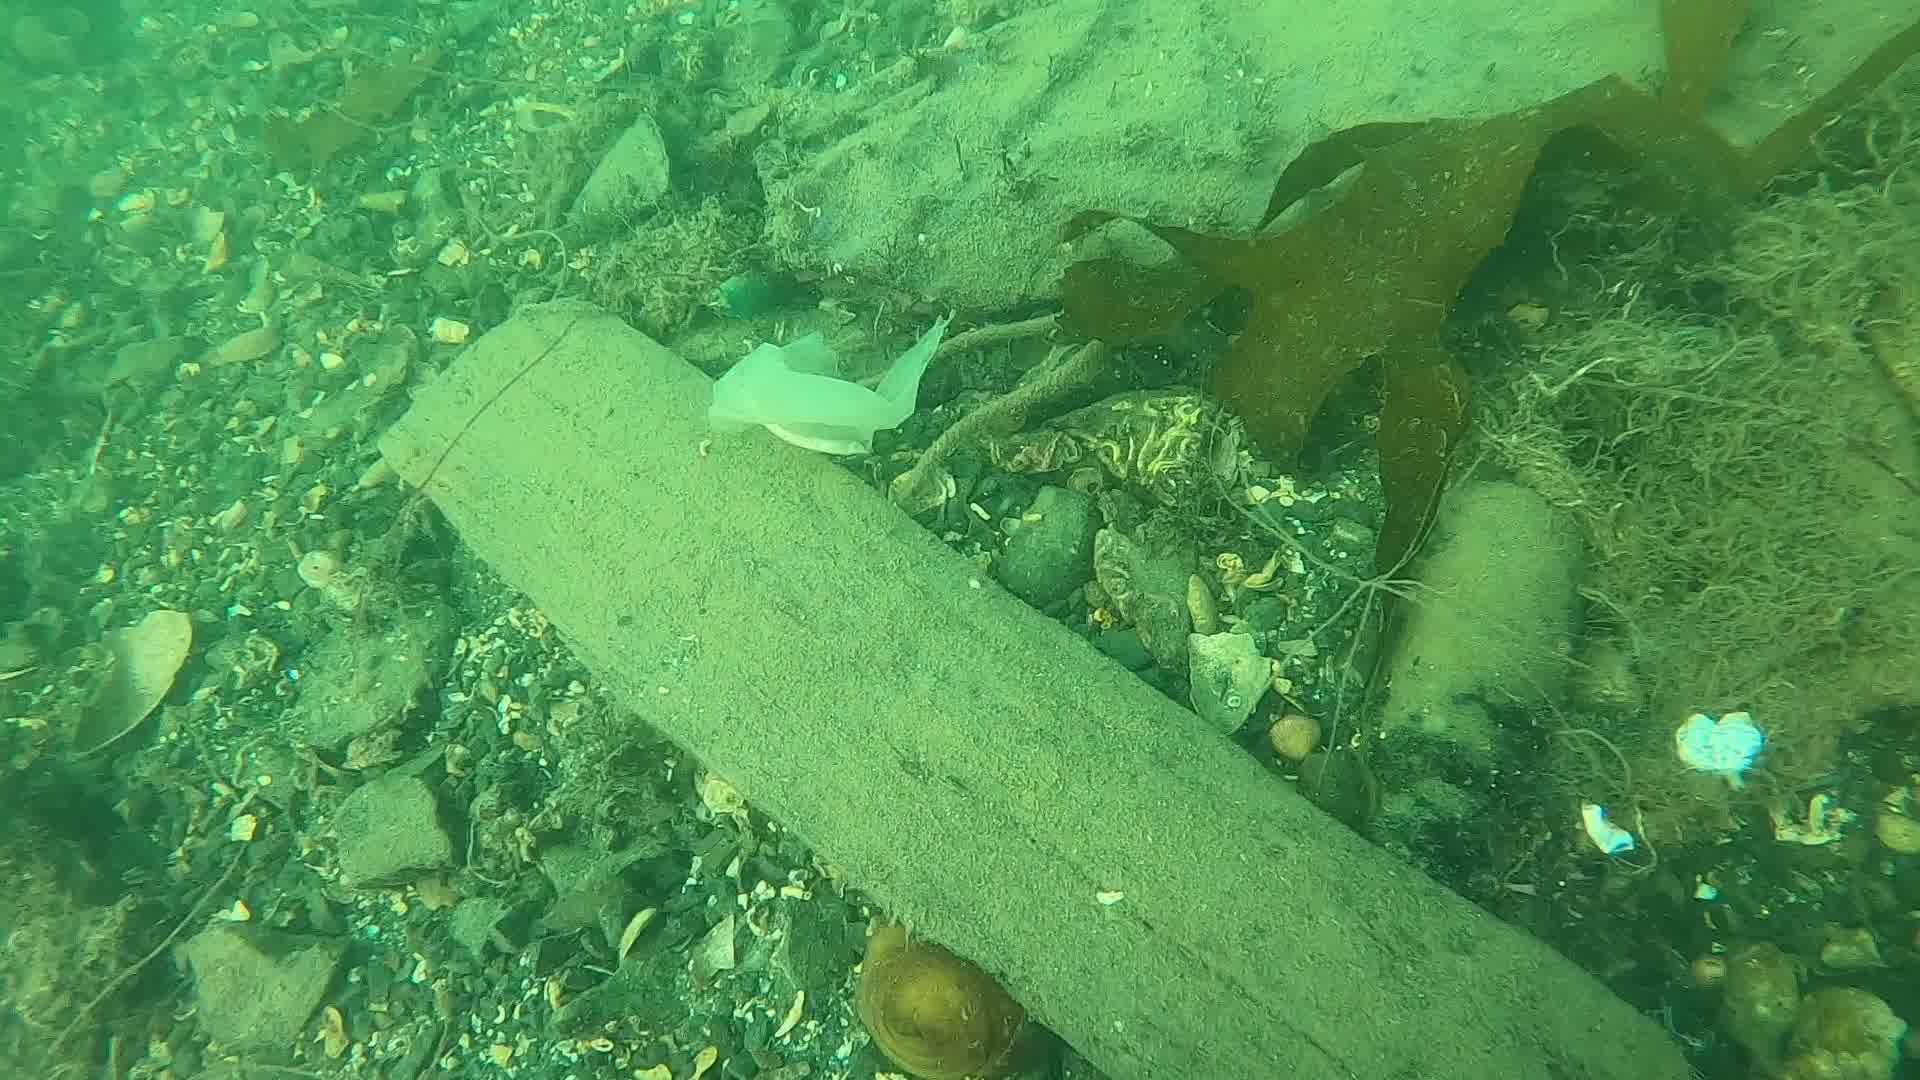wood: (375, 293, 1698, 1080)
